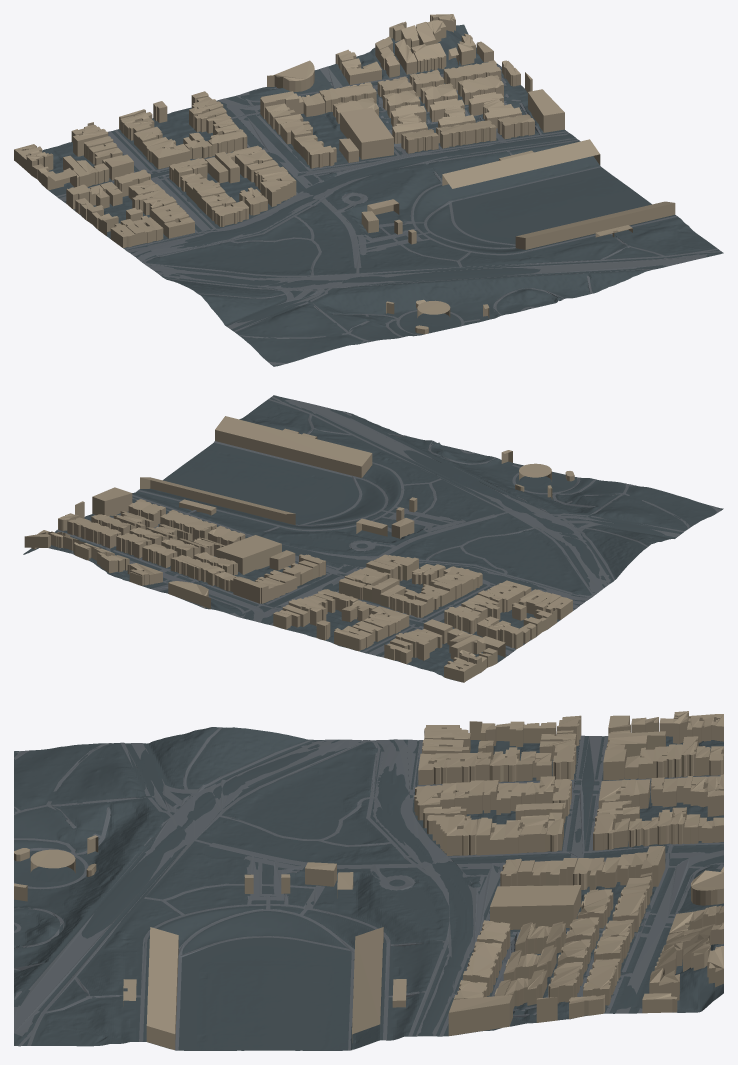
File: epsg26910-1426-10885.lod0.glb
3 views of the same model, one above another, from view 1: azimuth 30°, elevation 25°; view 2: azimuth 150°, elevation 25°; view 3: azimuth 270°, elevation 25° (orthographic). The views are drawn at different scales.
Parts seen in each view (by area): view 1: epsg26910-1426-10885-lod0; view 2: epsg26910-1426-10885-lod0; view 3: epsg26910-1426-10885-lod0.
Boxes of the visible parts, x1,y1,x2,y2 form: epsg26910-1426-10885-lod0: (14, 14, 723, 366); epsg26910-1426-10885-lod0: (23, 395, 723, 682); epsg26910-1426-10885-lod0: (14, 711, 723, 1050).
Bounding box in the file's own units: 384 × 53.95 × 384.
